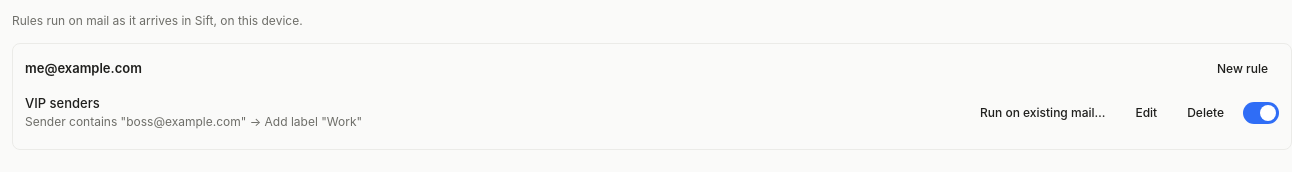
Test: Settings -> Rules (P8.3) › deletes a rule only after the inline confirmation
Expected: the text "VIP senders" is shown, [25, 95, 100, 111]
Click the button with aria-label "Delete rule VIP senders" at (1206, 112), box [1176, 98, 1235, 126]
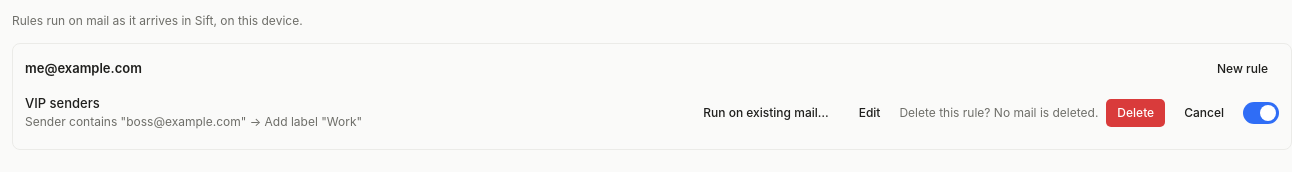
Result: the text "Delete this rule? No mail is deleted." is shown at [899, 104, 1098, 121]
Click the button with aria-label "Confirm delete VIP senders" at (1136, 112), box [1106, 98, 1165, 126]
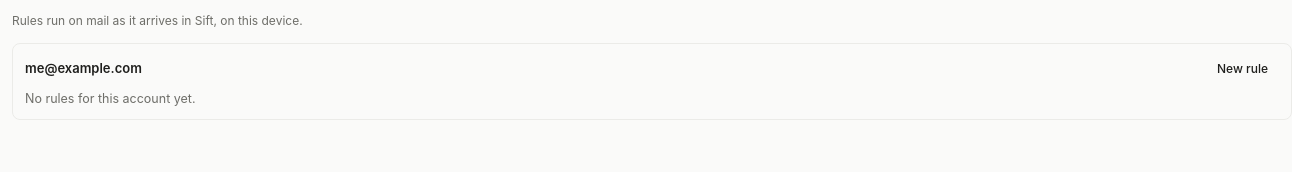
Result: the text "No rules for this account yet." is shown at [25, 91, 196, 106]
